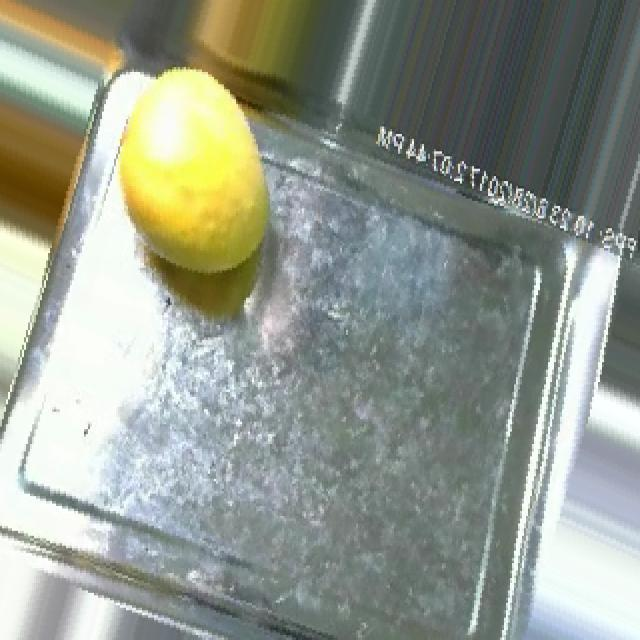fruit: (84, 35, 316, 310), (140, 0, 380, 102)
